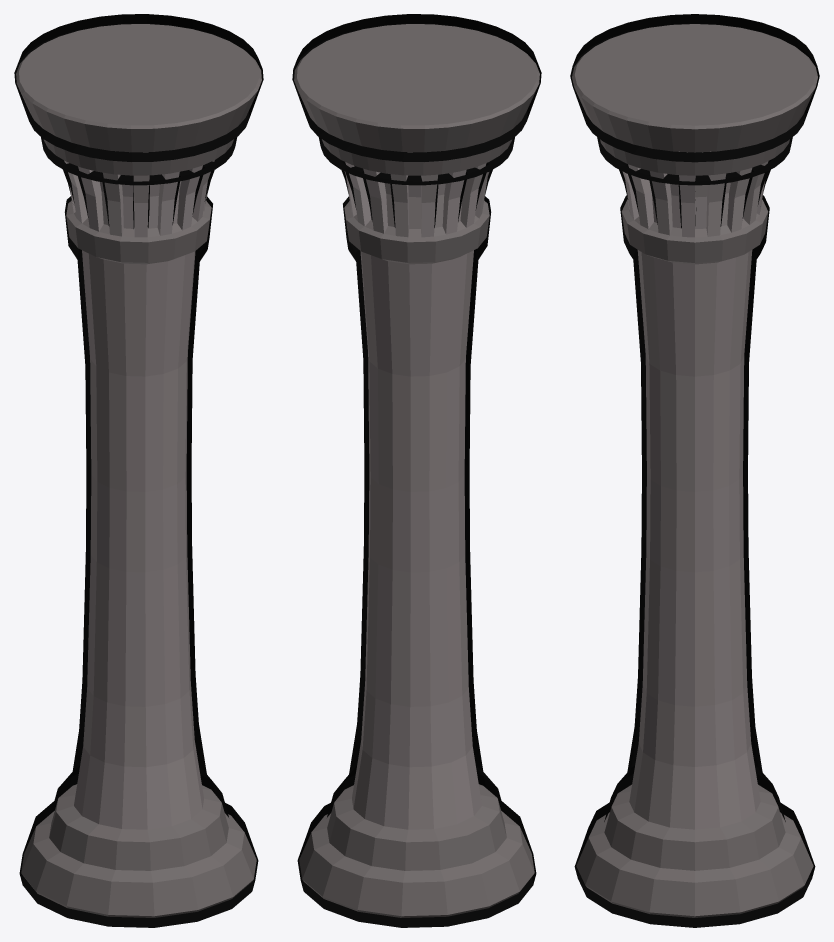
File: pillar_round_20m.fbx
The picture shows the model from 3 angles, left to right: view 1: azimuth 30°, elevation 25°; view 2: azimuth 150°, elevation 25°; view 3: azimuth 270°, elevation 25°; orthographic projection.
Parts seen in each view (by area): view 1: pillar_round_20m, pillar_round_20m_outline; view 2: pillar_round_20m, pillar_round_20m_outline; view 3: pillar_round_20m, pillar_round_20m_outline.
Boxes of the visible parts, box(x1,y1,x2,y2) form: pillar_round_20m: box(16, 24, 261, 917); pillar_round_20m_outline: box(14, 14, 263, 927); pillar_round_20m: box(294, 24, 539, 917); pillar_round_20m_outline: box(292, 14, 541, 927); pillar_round_20m: box(572, 24, 817, 917); pillar_round_20m_outline: box(570, 14, 819, 927).
Size of the model in its own units: 570 by 2050 by 570.
